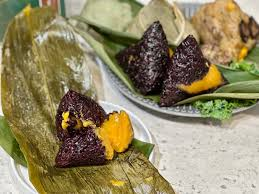zongzi: (116, 22, 222, 105), (56, 90, 132, 166)
